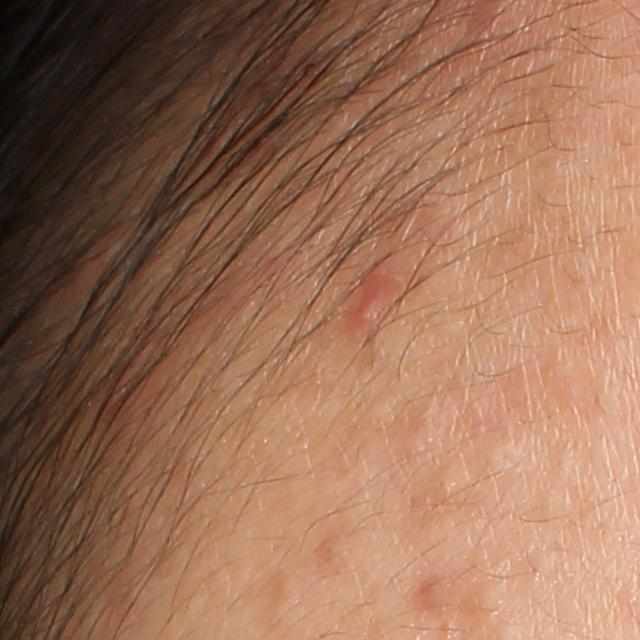comedo: (253, 565, 313, 639), (412, 461, 472, 527), (459, 572, 508, 630), (544, 442, 580, 489), (473, 436, 513, 475)
papule: (341, 267, 424, 340)
